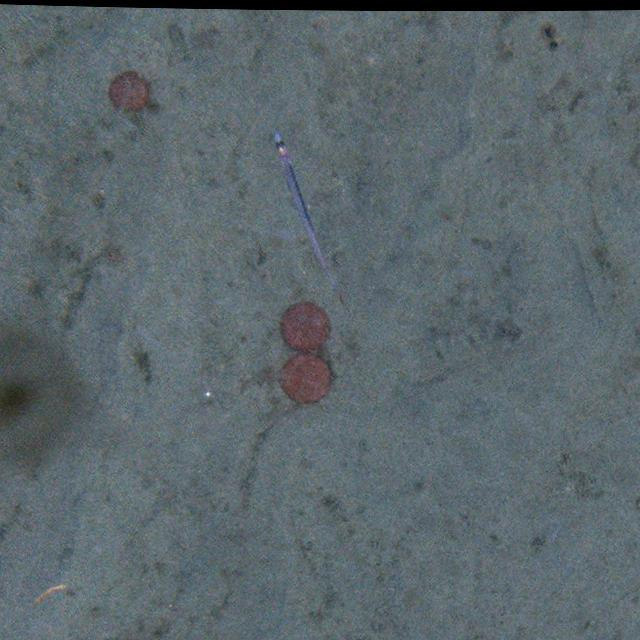roundfish: (270, 134, 336, 288)
